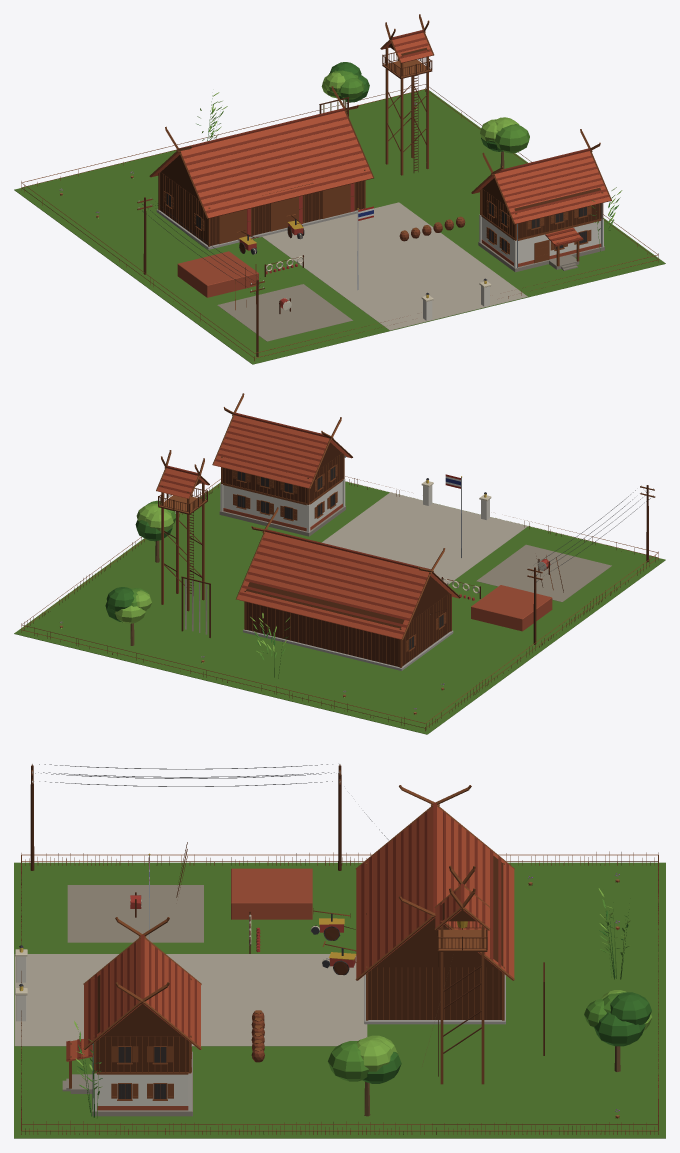
Rendered from fire.glb.
3 views of the same model, one above another, from view 1: azimuth 30°, elevation 25°; view 2: azimuth 150°, elevation 25°; view 3: azimuth 270°, elevation 25° (orthographic). The views are drawn at different scales.
Visible parts, largest first — view 1: body, windows; view 2: body, windows; view 3: body, windows.
Boxes of the visible parts, x1=… form: body: x1=14, y1=14, x2=665, y2=364; windows: x1=166, y1=193, x2=586, y2=298; body: x1=14, y1=393, x2=665, y2=734; windows: x1=237, y1=466, x2=486, y2=649; body: x1=14, y1=763, x2=665, y2=1138; windows: x1=19, y1=948, x2=166, y2=1098.
Bounding box in the file's own units: 47.9 × 16.28 × 47.9.
